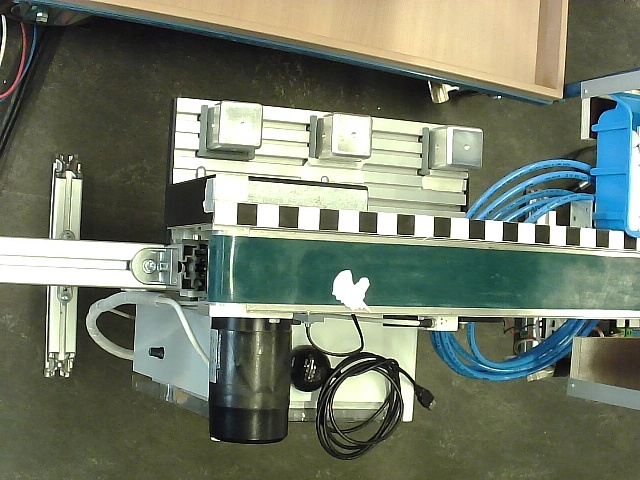unicorn: (331, 268, 372, 313)
